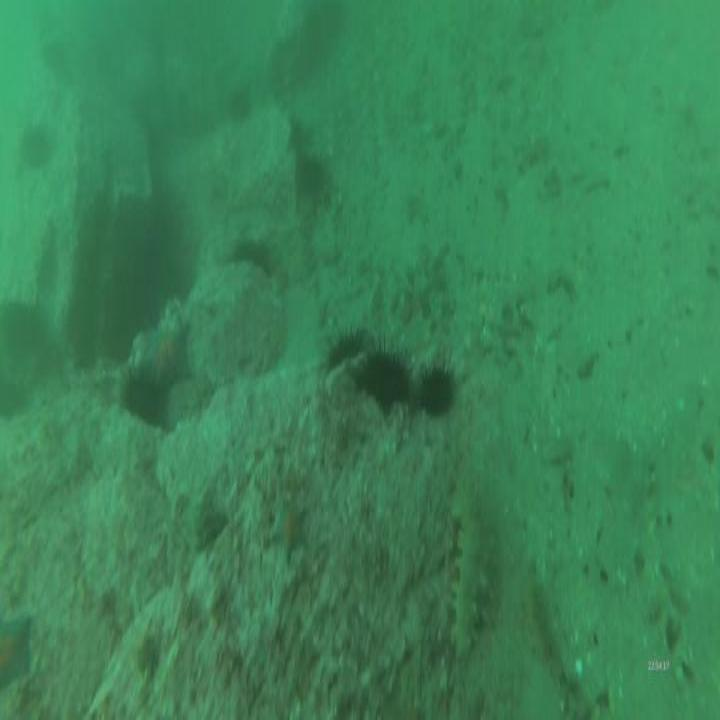echinus: (359, 350, 412, 400), (124, 375, 160, 421), (421, 372, 454, 407), (328, 330, 360, 364), (298, 155, 324, 190)
holothurian: (522, 560, 564, 688), (453, 512, 481, 660)
starfish: (269, 494, 310, 562), (0, 618, 32, 690), (152, 332, 193, 380)
